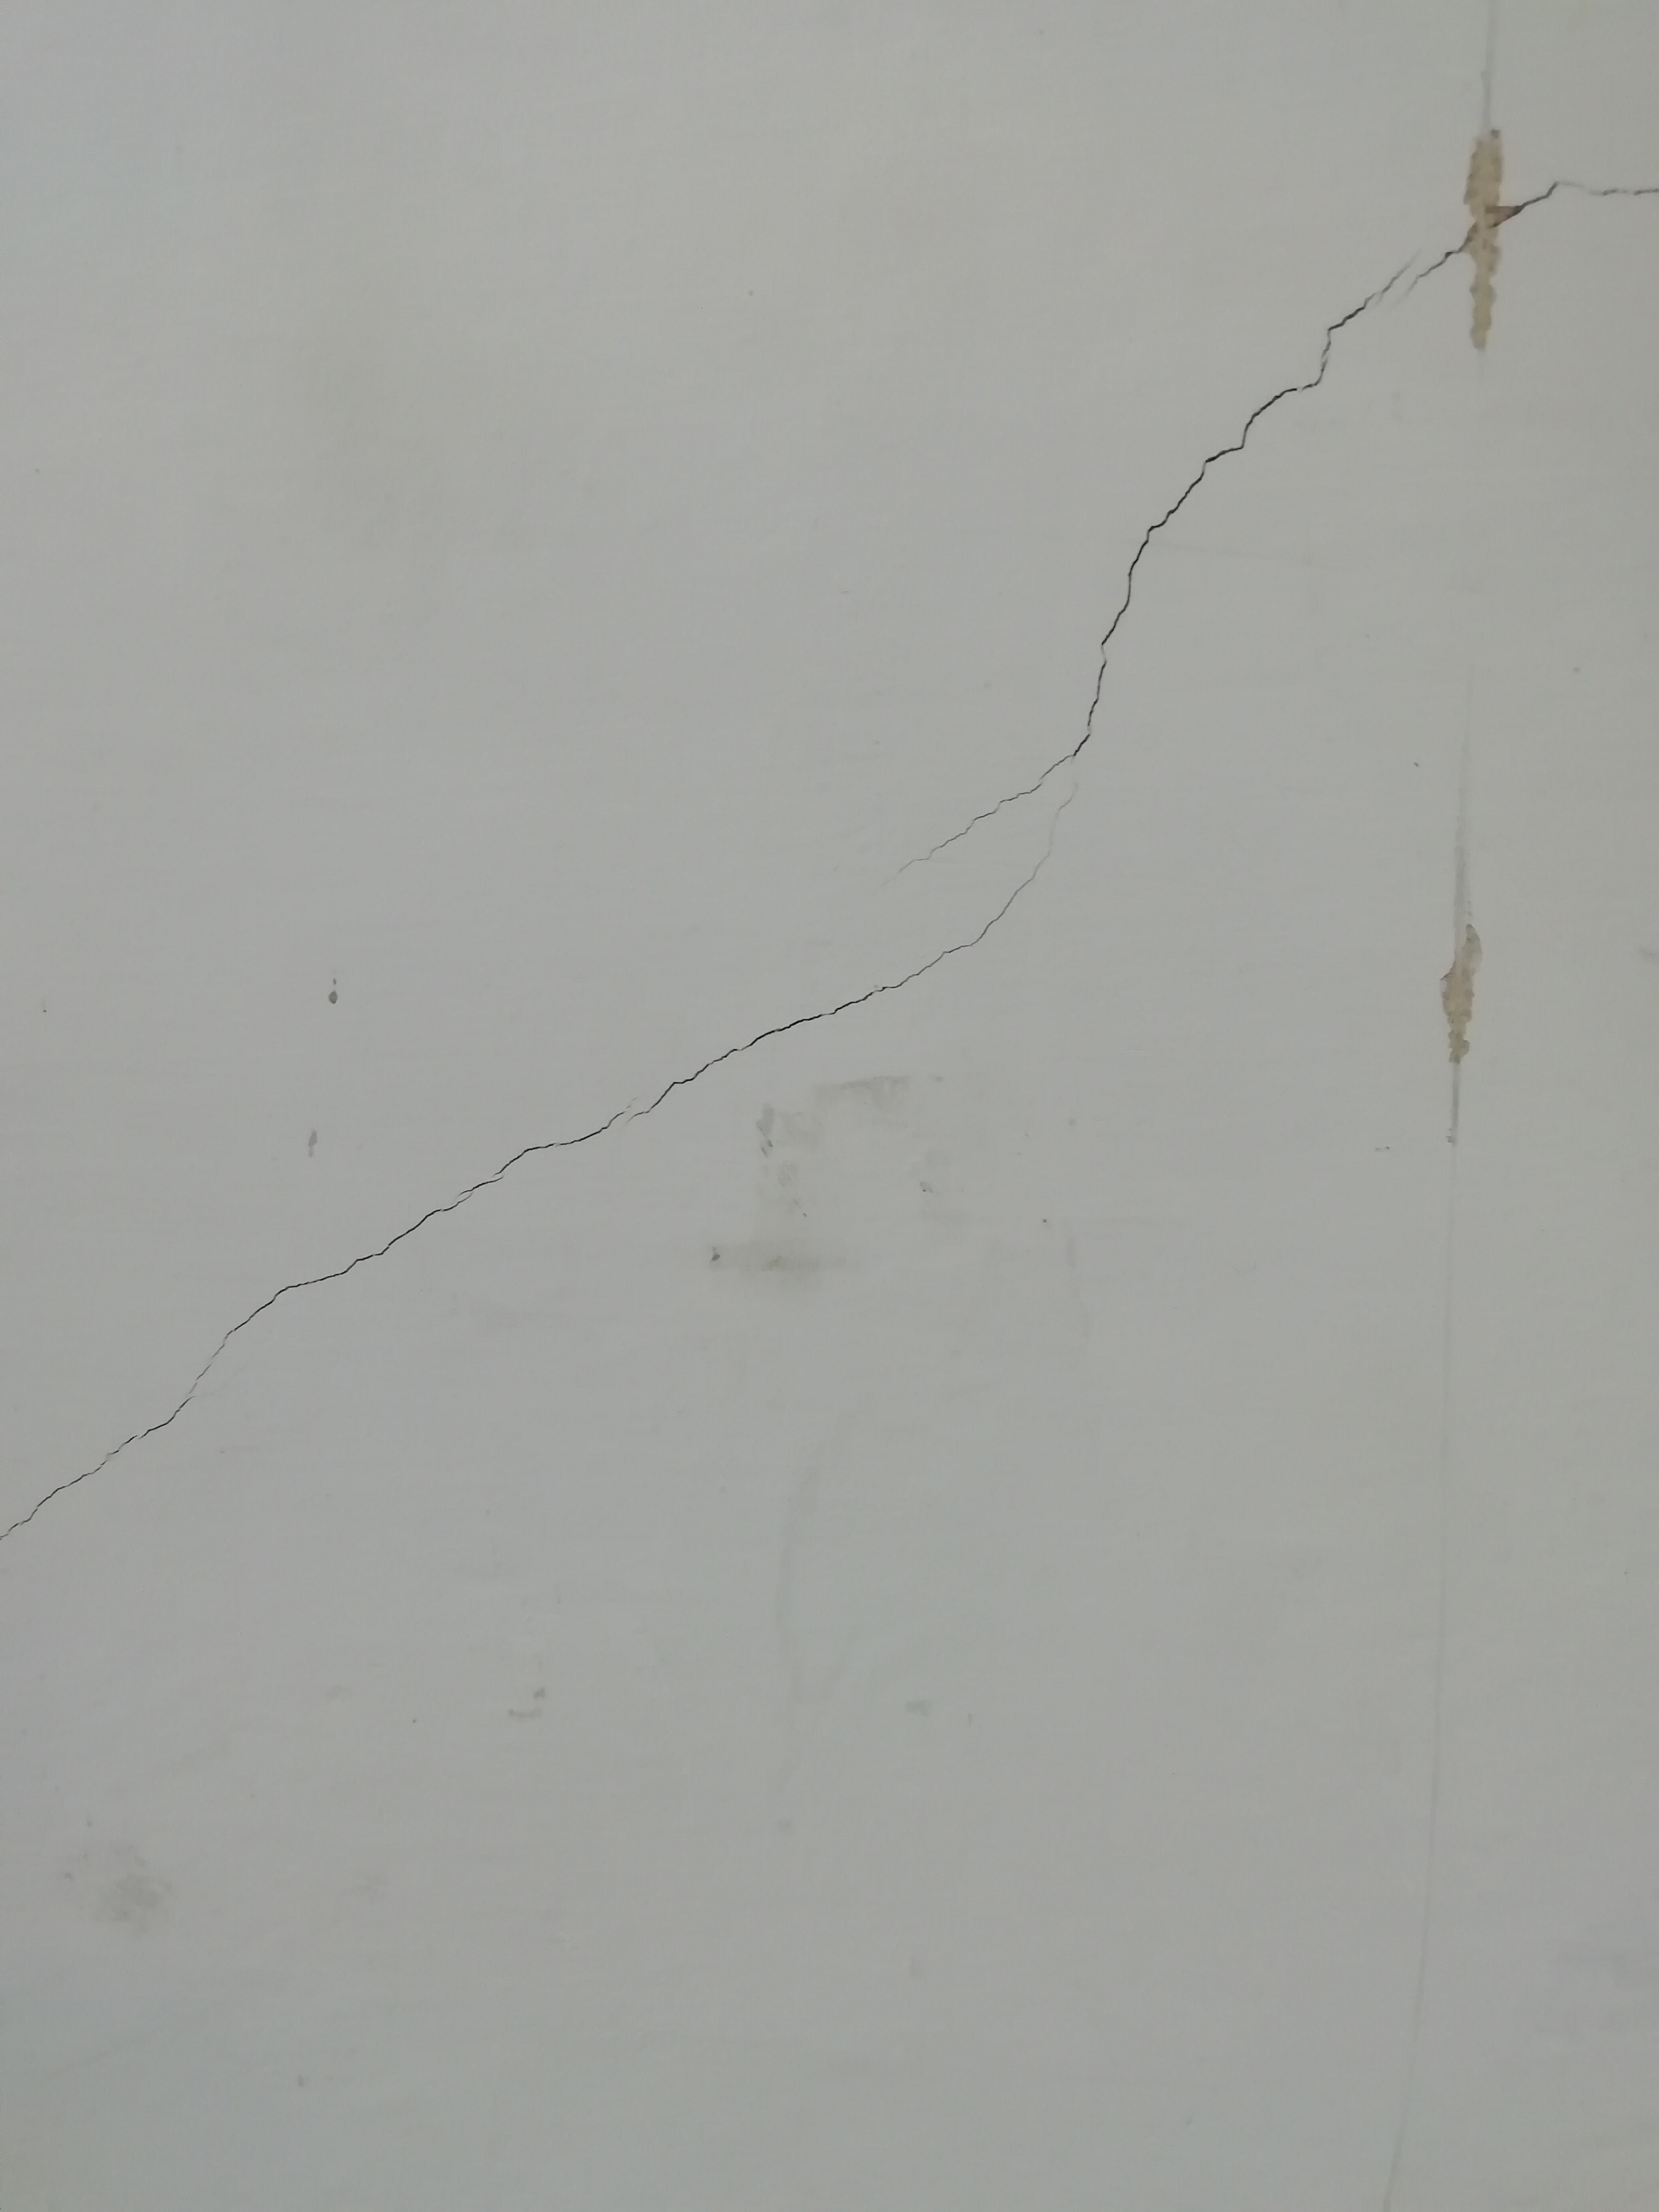Crack: (12, 1157, 518, 1534), (1087, 280, 1396, 726)
